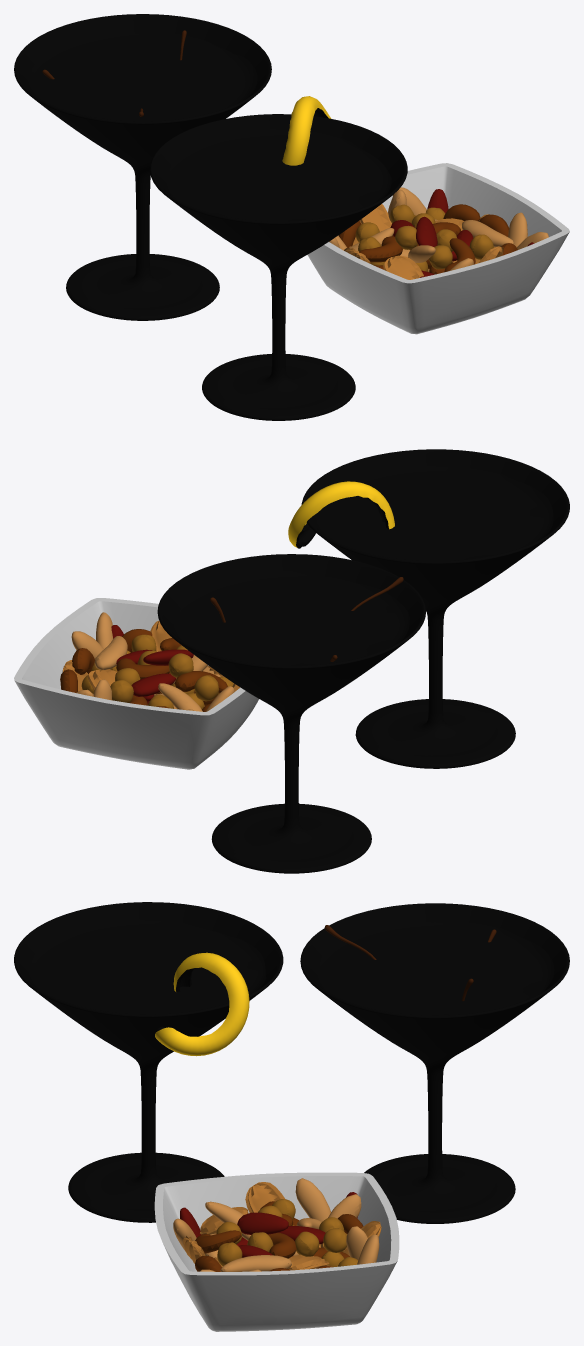
The model's file is coktail.fbx.
3 renders of one model, top to bottom at view 1: azimuth 30°, elevation 25°; view 2: azimuth 150°, elevation 25°; view 3: azimuth 270°, elevation 25°, orthographic. The views are drawn at different scales.
Visible parts, largest first — view 1: X002_021_0, X002_021_m, X001_013_m; view 2: X002_021_m, X002_021_0, X001_013_m; view 3: X002_021_m, X002_021_0, X001_013_m.
Part boxes in pixels (box(x1,y1,x2,y2)): X002_021_0: box(150, 96, 407, 420); X002_021_m: box(14, 14, 271, 320); X001_013_m: box(307, 163, 569, 334); X002_021_m: box(157, 554, 425, 873); X002_021_0: box(288, 449, 569, 768); X001_013_m: box(14, 598, 258, 769); X002_021_m: box(300, 903, 569, 1223); X002_021_0: box(14, 902, 283, 1222); X001_013_m: box(154, 1172, 399, 1331).
Bounding box in the file's own units: 29.41 × 16.82 × 32.05.
